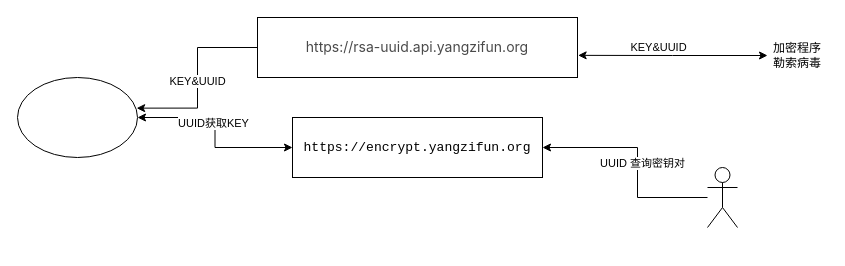
This 845x266 diagram has some shape labels left out. Each missing label, with the centre of its shape:
"Actor" belongs at [722,197].
"enc Sqlite" belongs at [77,117].
